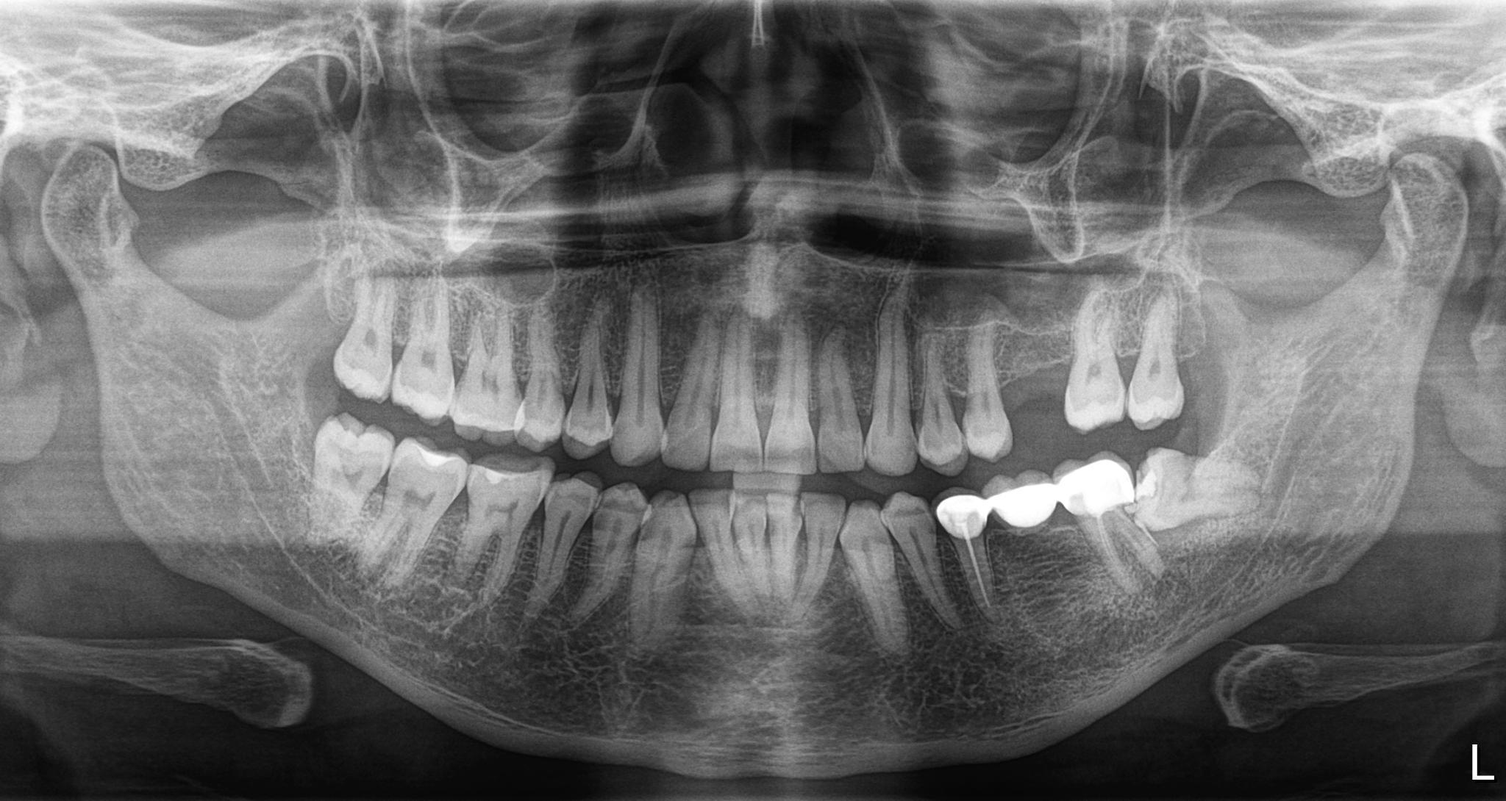Endodontically Treated Tooth: (938, 462, 1157, 625)
Impacted Third Molar: (1136, 448, 1268, 523)
Missing Tooth: (995, 318, 1064, 437)
